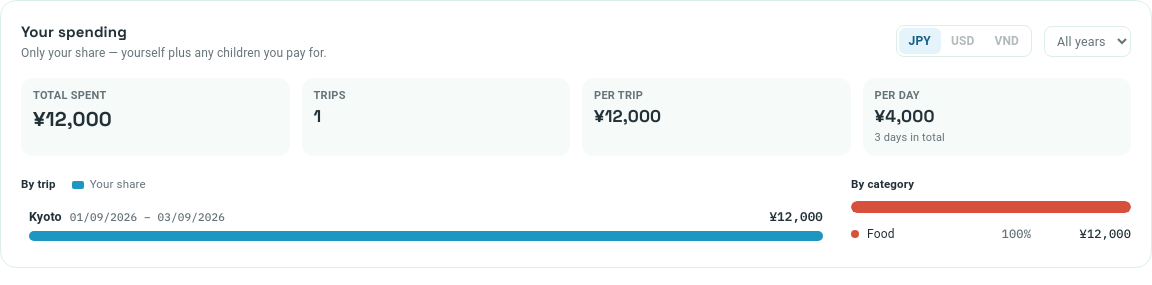
Test: Thống kê chi tiêu — tab tiền tệ › luôn có đủ 3 tab JPY / USD / VND, kể cả khi chỉ có dữ liệu JPY
Click the tab "VND" at [1007, 41], box [984,28,1029,54]
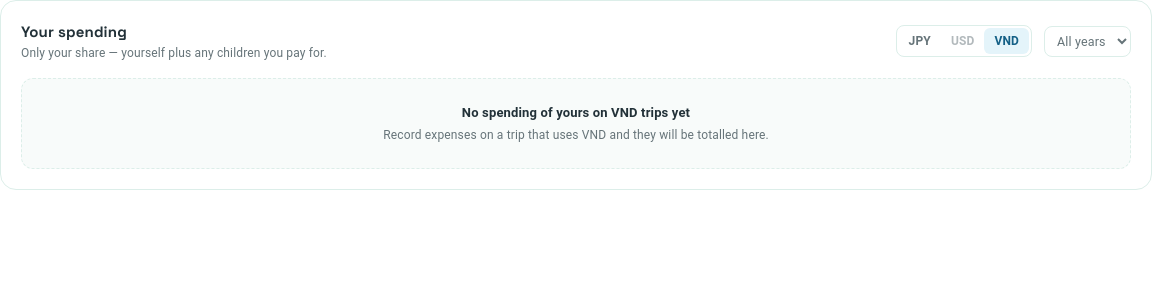
Check: the text "No spending of yours on VND trips yet" is shown, box [462,104,690,120]
